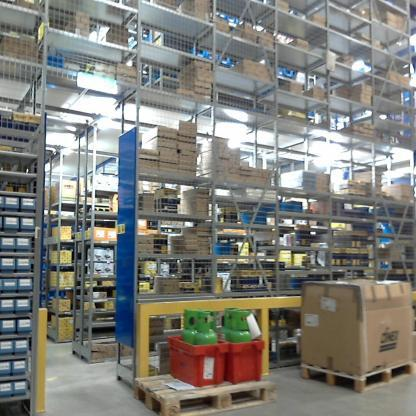pallets: (129, 372, 277, 415), (299, 356, 415, 394)
